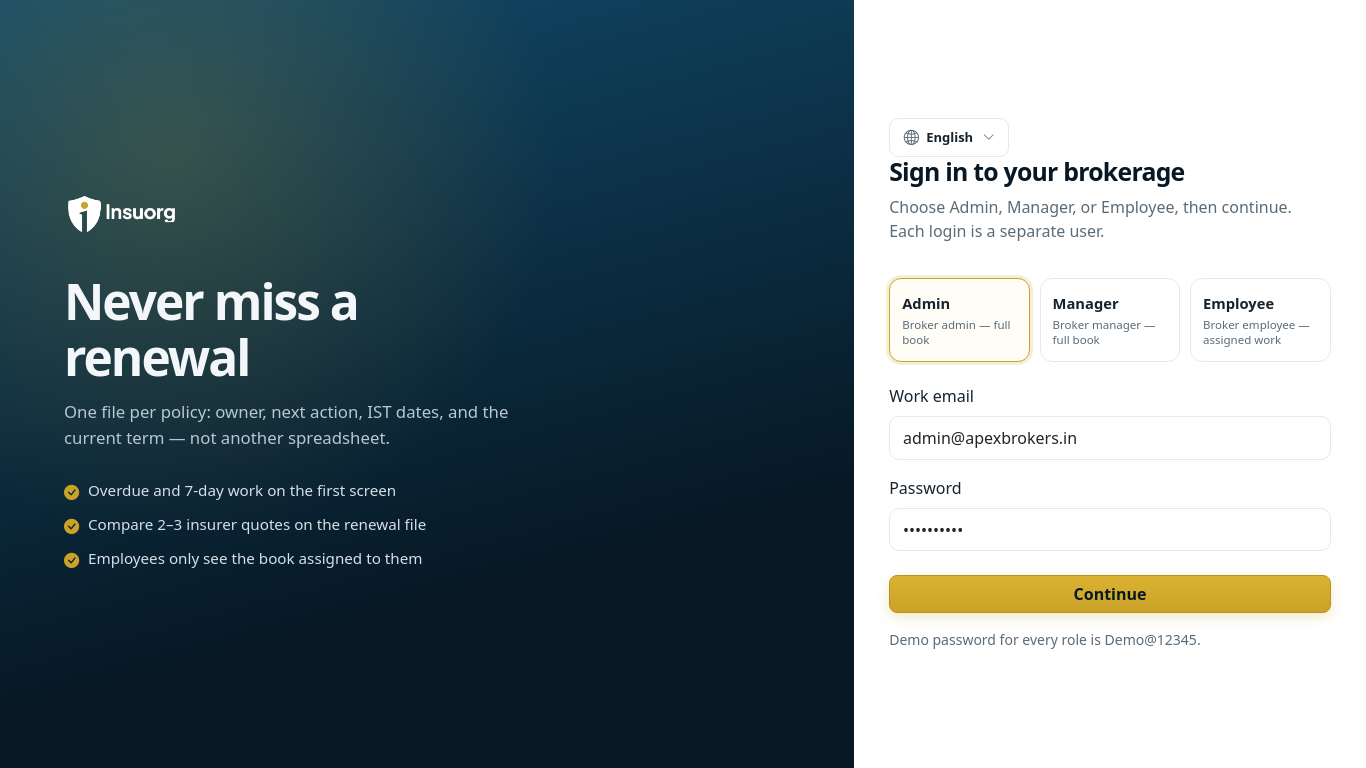
Scenario: LoginPage › signs in as Admin and opens the dashboard
The image size is (1366, 768).
Click the button "Admin Broker admin — full book" at {"x": 960, "y": 320}, box 889,278 -> 1030,362
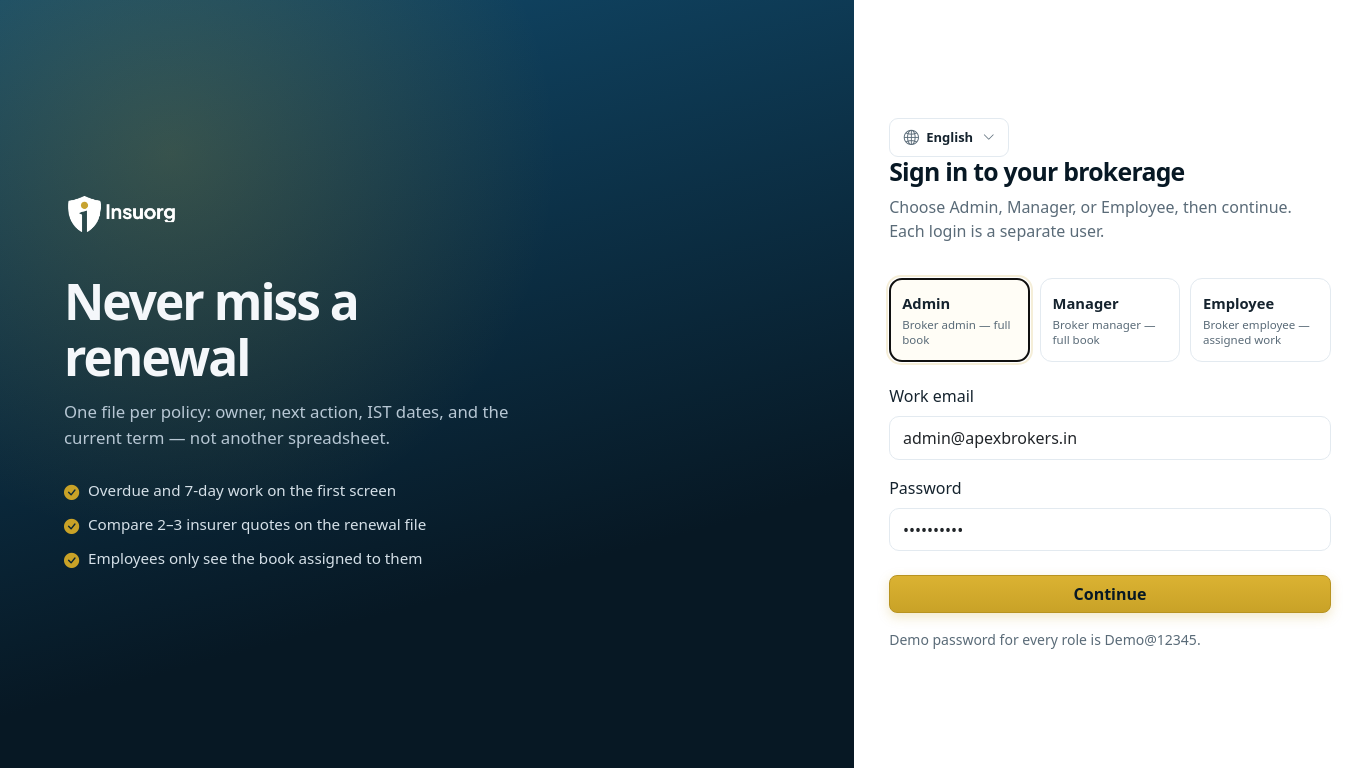
Click the button "Continue" at {"x": 1110, "y": 594}, box 889,575 -> 1331,613
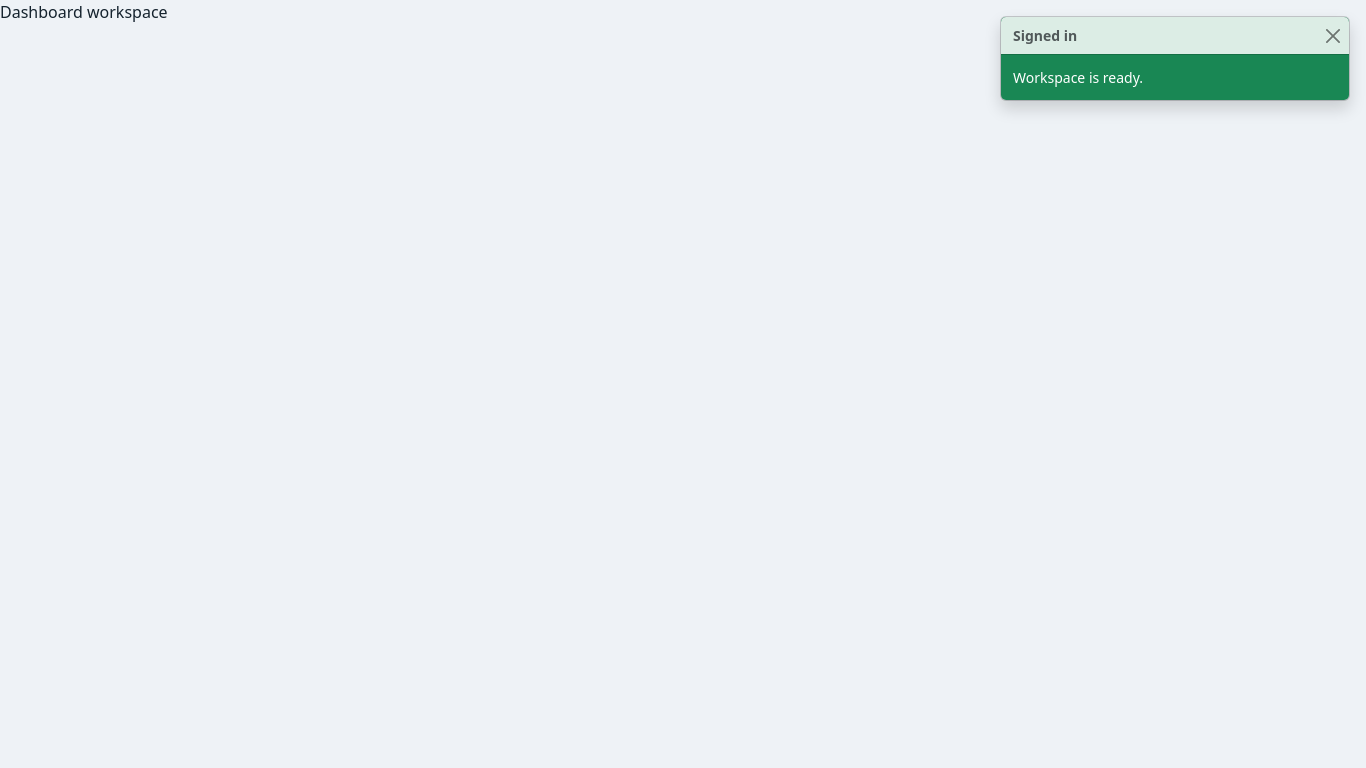
expect the text "Dashboard workspace" is shown: met, box 0,1 -> 168,23
expect the text "Workspace is ready." is shown: met, box 1013,68 -> 1143,87
